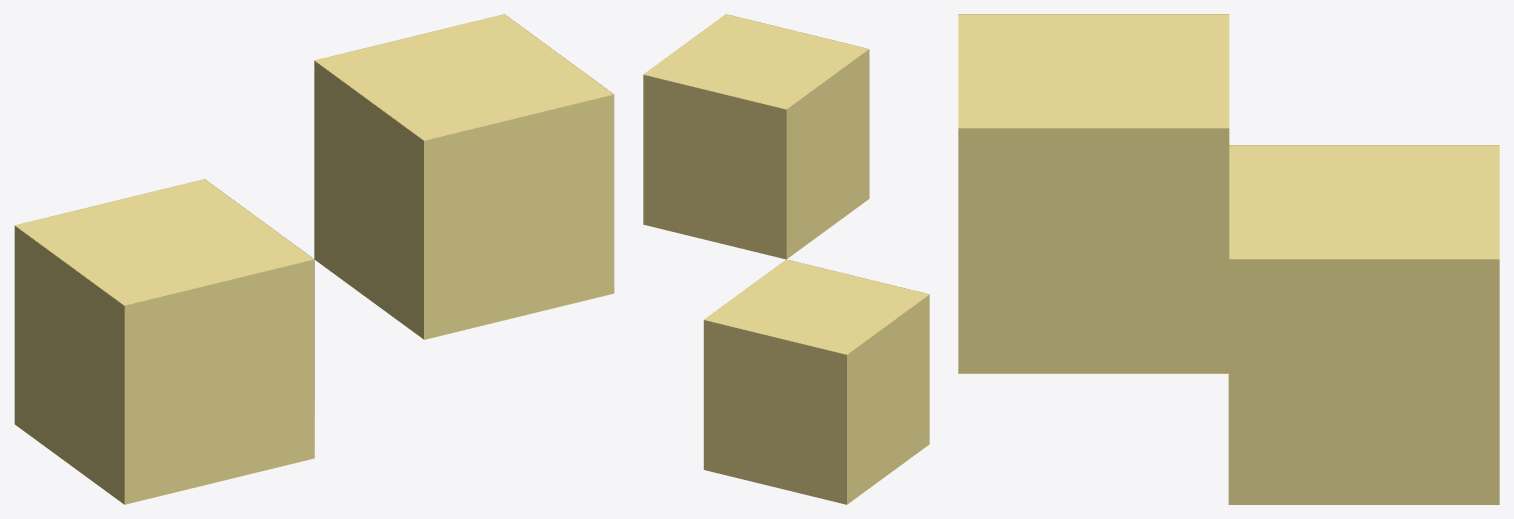
File: Alchemist Left Arm.obj
3 views of the same model, side by side, from view 1: azimuth 30°, elevation 25°; view 2: azimuth 150°, elevation 25°; view 3: azimuth 270°, elevation 25° (orthographic). The views are drawn at different scales.
Parts seen in each view (by area): view 1: Alchemist Left Arm; view 2: Alchemist Left Arm; view 3: Alchemist Left Arm.
Part boxes in pixels (box(x1,y1,x2,y2)): Alchemist Left Arm: box(14, 14, 614, 504); Alchemist Left Arm: box(643, 14, 929, 504); Alchemist Left Arm: box(958, 14, 1499, 504).
Size of the model in its own units: 2 by 2 by 2.
1 material, 1 textured.
